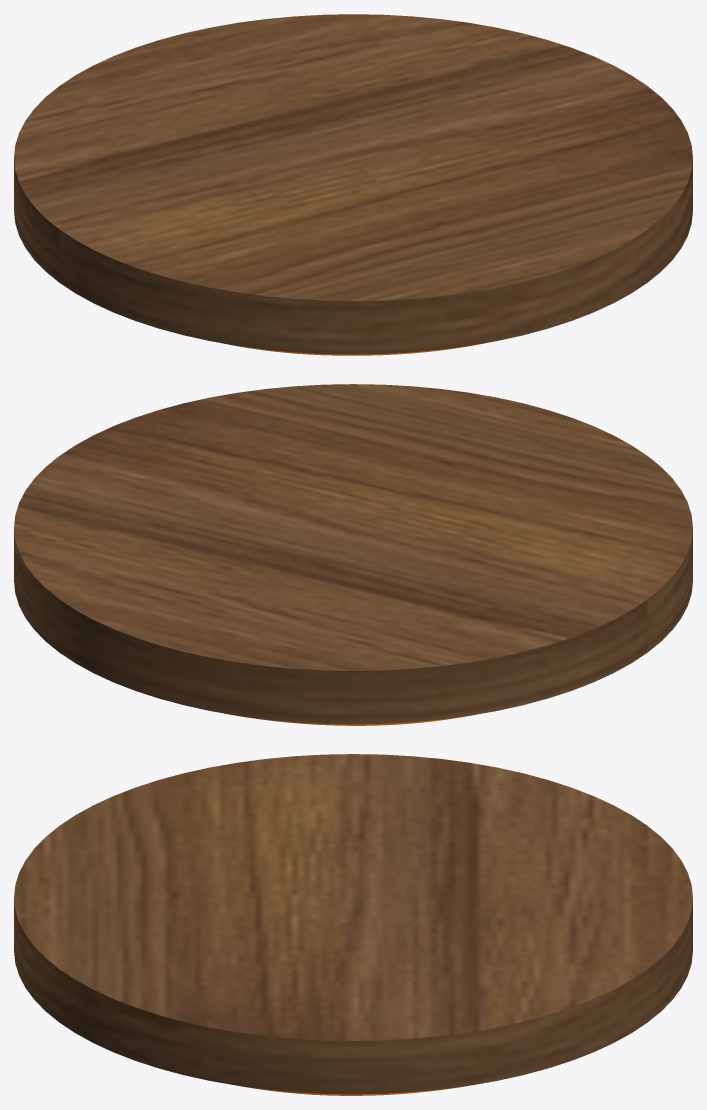
The model's file is Light.fbx.
3 views of the same model, one above another, from view 1: azimuth 30°, elevation 25°; view 2: azimuth 150°, elevation 25°; view 3: azimuth 270°, elevation 25° (orthographic).
Parts seen in each view (by area): view 1: Extrude_2; view 2: Extrude_2; view 3: Extrude_2.
Part boxes in pixels (box(x1,y1,x2,y2)): Extrude_2: box(14, 14, 692, 354); Extrude_2: box(14, 384, 692, 724); Extrude_2: box(14, 754, 692, 1094).
Bounding box in the file's own units: 439 × 50.8 × 439.
2 materials, 1 textured.
